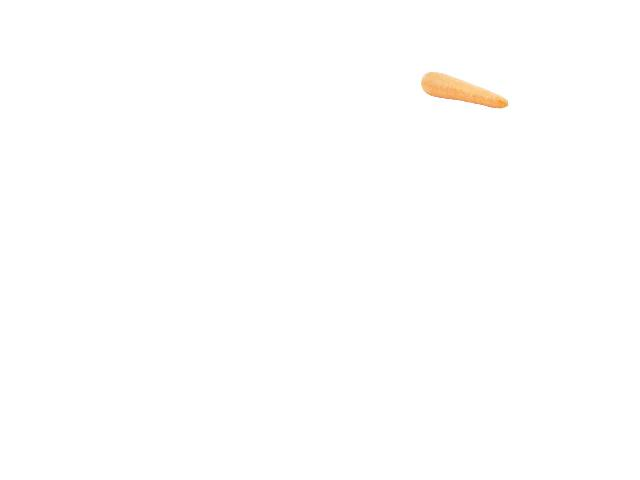carrot: (419, 68, 512, 108)
